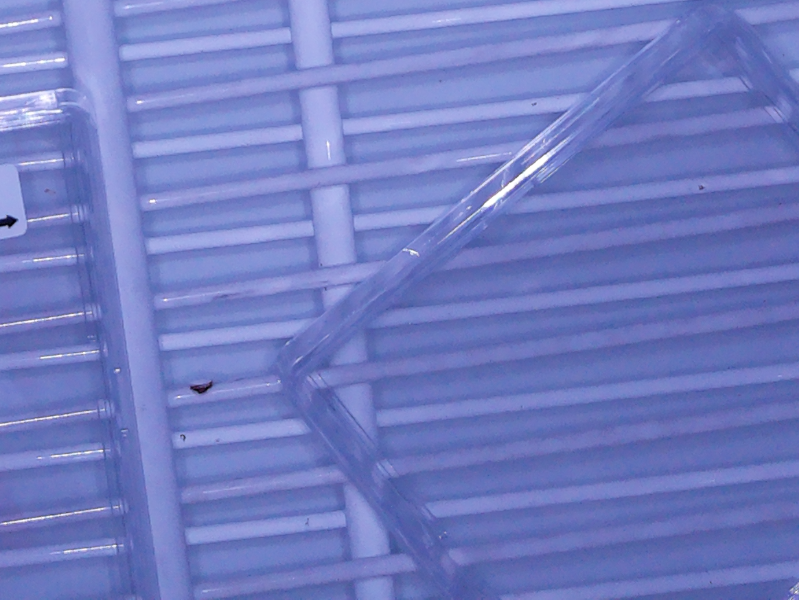plate: (267, 6, 799, 600), (1, 85, 160, 600)
